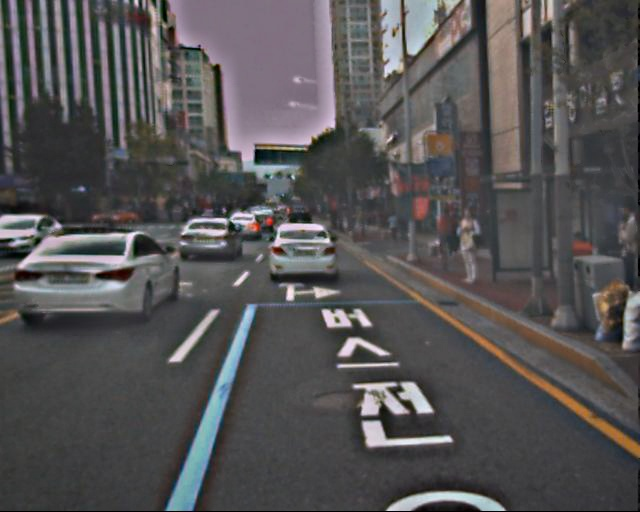person: (452, 204, 486, 286), (434, 205, 457, 262), (386, 212, 411, 244)
